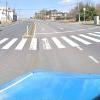crosswalks: (0, 31, 100, 51)
